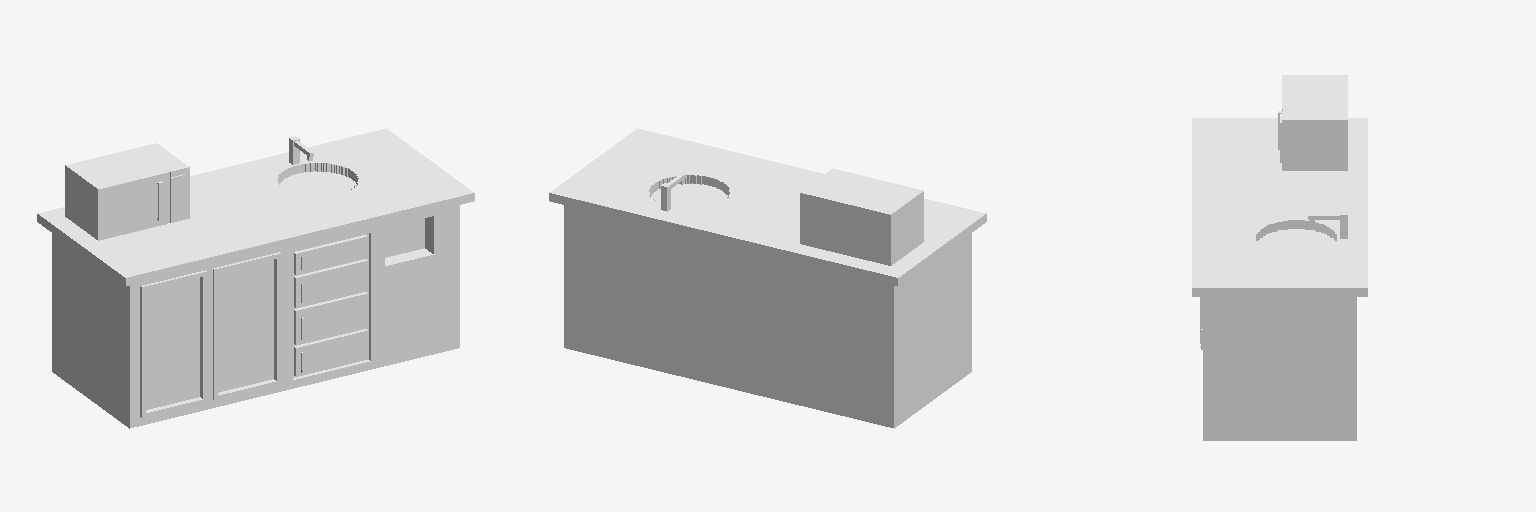
The model's file is FogaoMicroondasPia.obj.
3 renders of one model, left to right at view 1: azimuth 30°, elevation 25°; view 2: azimuth 150°, elevation 25°; view 3: azimuth 270°, elevation 25°, orthographic.
Visible parts, largest first — view 1: object 1; view 2: object 1; view 3: object 1.
Part boxes in pixels (x1,y1,x2,y2): object 1: (37,128,474,428); object 1: (549,128,986,428); object 1: (1192,75,1367,440).
Bounding box in the file's own units: 25.6 × 14.6 × 11.2.